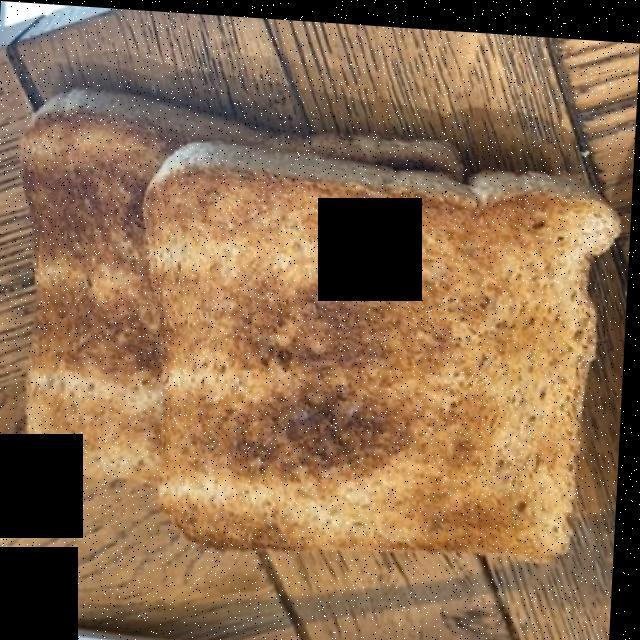bread: (40, 110, 609, 546)
